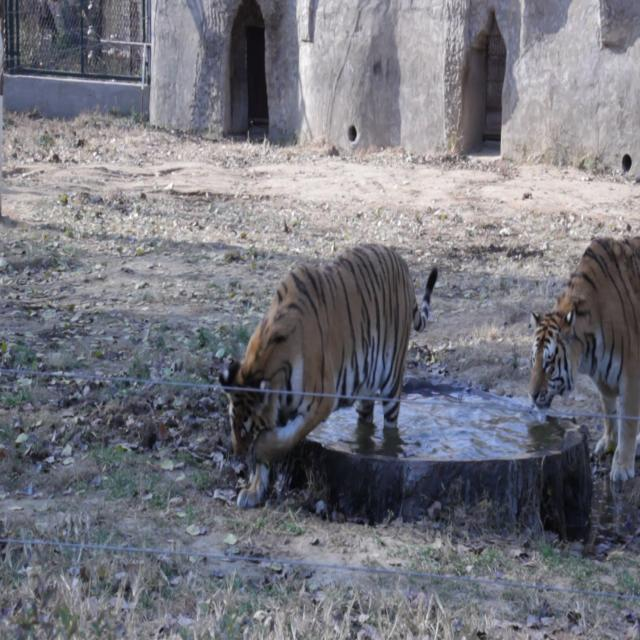Tiger: (221, 230, 446, 500), (525, 213, 640, 482)
